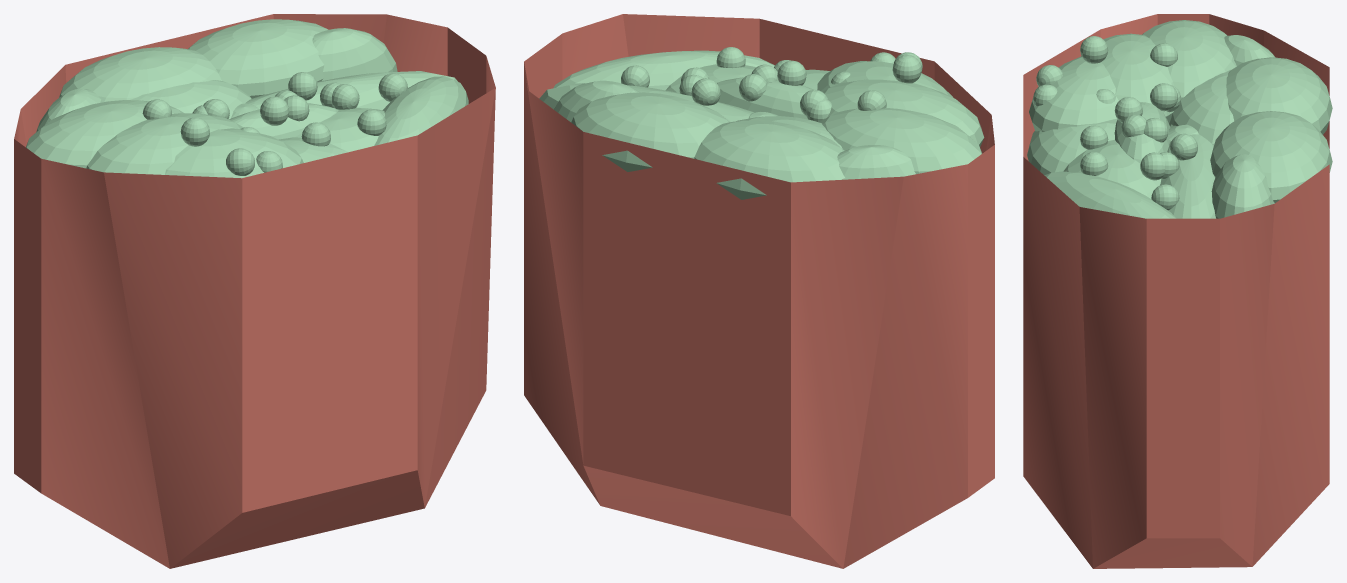
File: lechuga.gltf
The picture shows the model from 3 angles, left to right: view 1: azimuth 30°, elevation 25°; view 2: azimuth 150°, elevation 25°; view 3: azimuth 270°, elevation 25°; orthographic projection. The views are drawn at different scales.
Parts seen in each view (by area): view 1: Cubo, Esfera (×20); view 2: Cubo, Esfera (×16); view 3: Cubo, Esfera (×25).
Part boxes in pixels (left/top/right/bottom): Cubo: left=14, top=14, right=495, bottom=568; Esfera (×20): left=26, top=19, right=468, bottom=178; Cubo: left=524, top=14, right=994, bottom=568; Esfera (×16): left=539, top=50, right=984, bottom=199; Cubo: left=1023, top=14, right=1329, bottom=568; Esfera (×25): left=1027, top=20, right=1332, bottom=218.
Bounding box in the file's own units: 0.1964 × 0.1901 × 0.1254.
